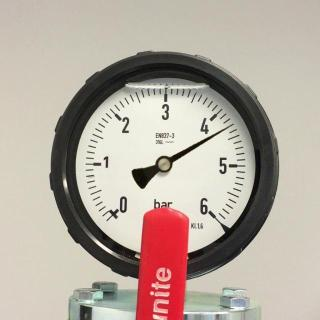gauge: (47, 48, 286, 286), (100, 194, 130, 226), (196, 196, 222, 228), (155, 155, 173, 173), (229, 121, 236, 129)
